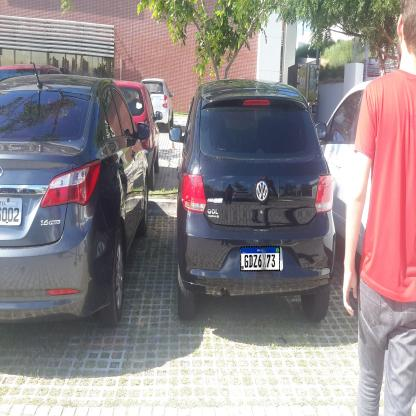PlacaM: (240, 246, 280, 271)
